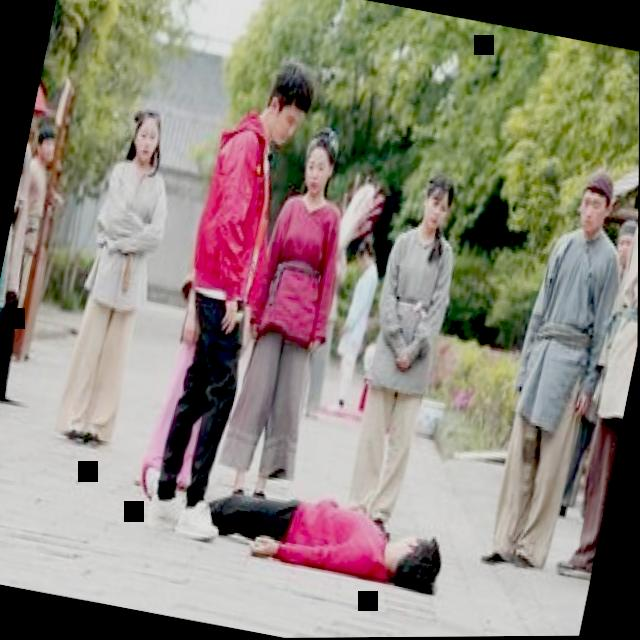Fall-Detected: (190, 449, 460, 597)
